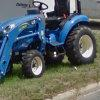Tractor: (7, 6, 100, 82)
